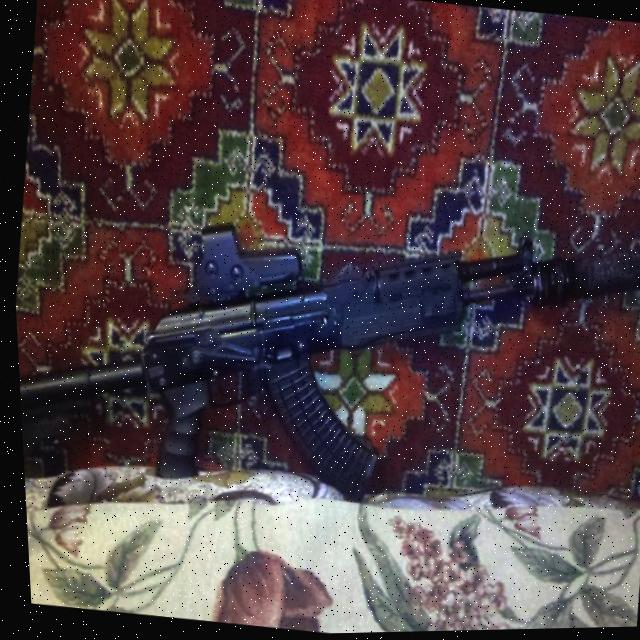firearm: (7, 163, 640, 564)
